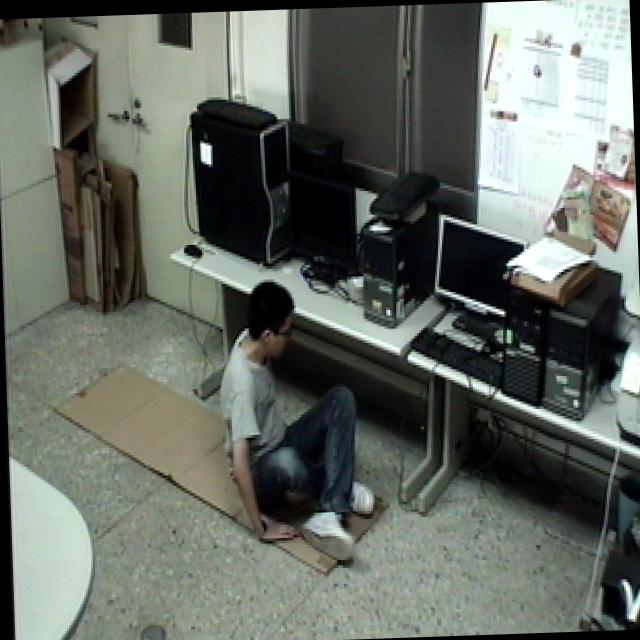sit: (205, 268, 378, 571)
